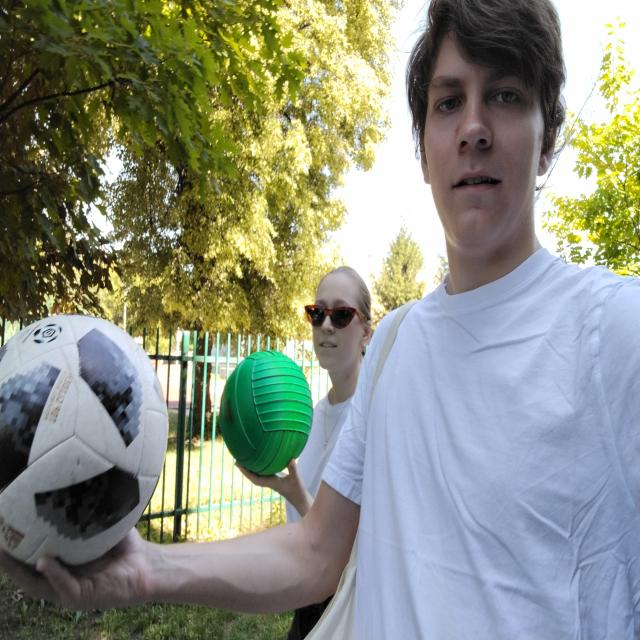nozna: (0, 315, 169, 567)
zielona: (220, 350, 313, 477)
